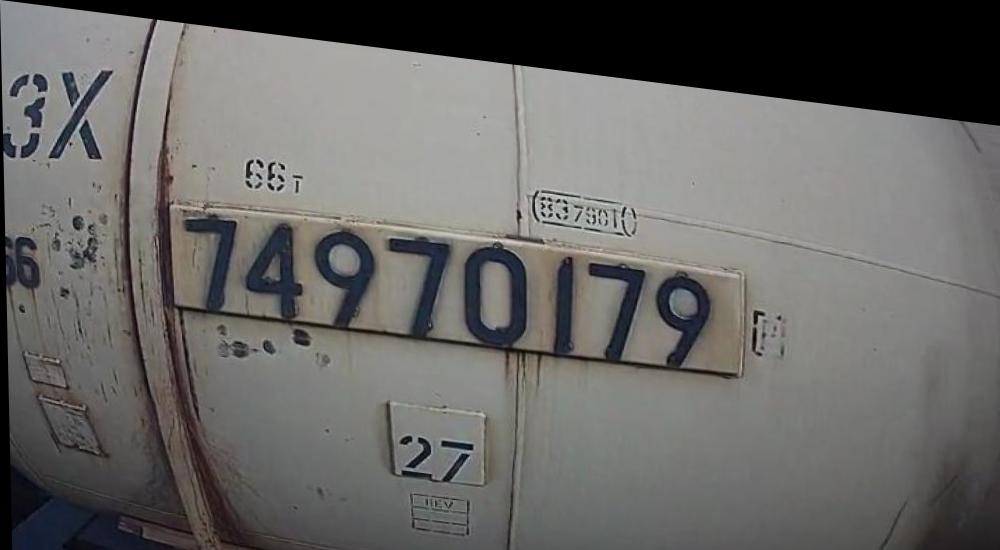Wagon-number: (172, 197, 724, 358)
